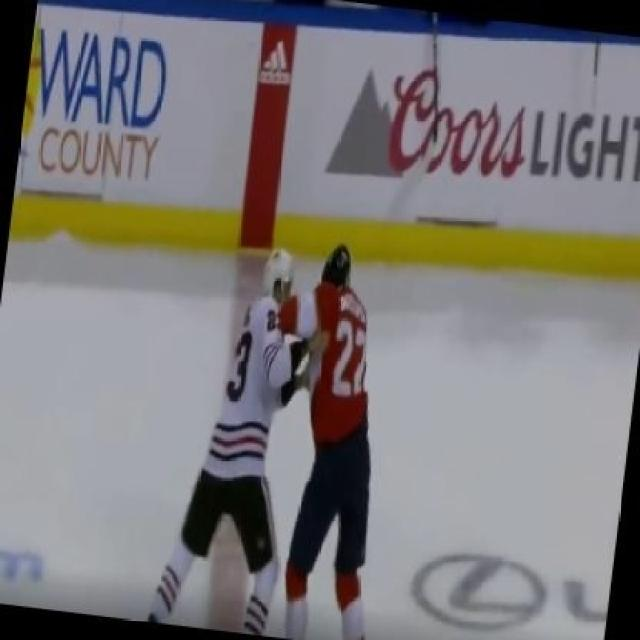fight: (131, 223, 443, 639)
